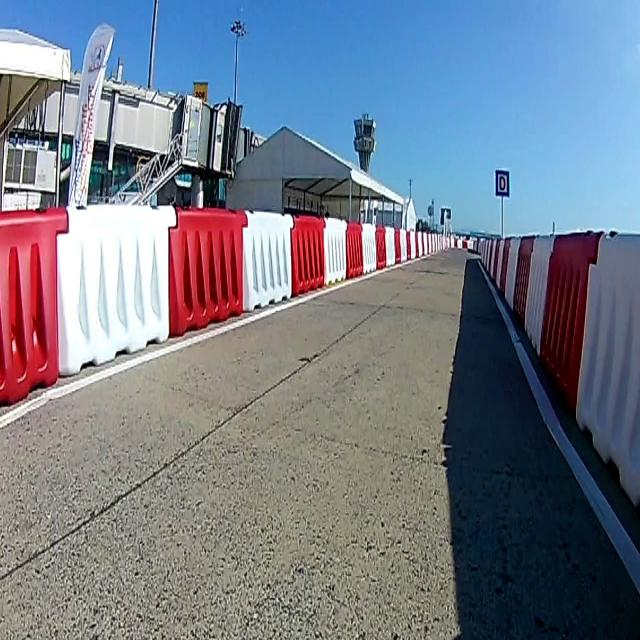durak: (496, 170, 510, 196)
